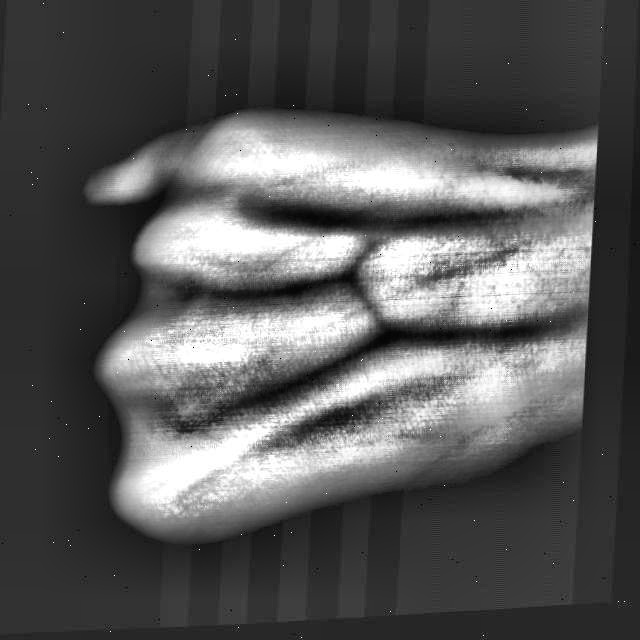Vein: (394, 188, 592, 242), (397, 302, 585, 346)
